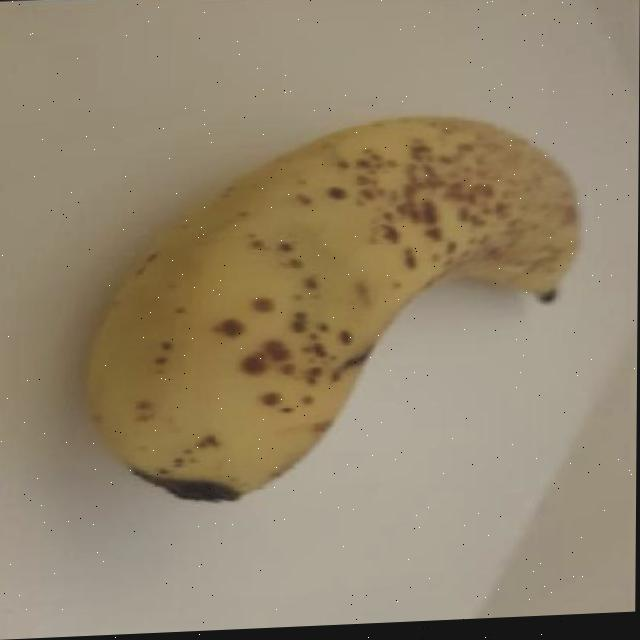banana: (76, 107, 587, 512)
